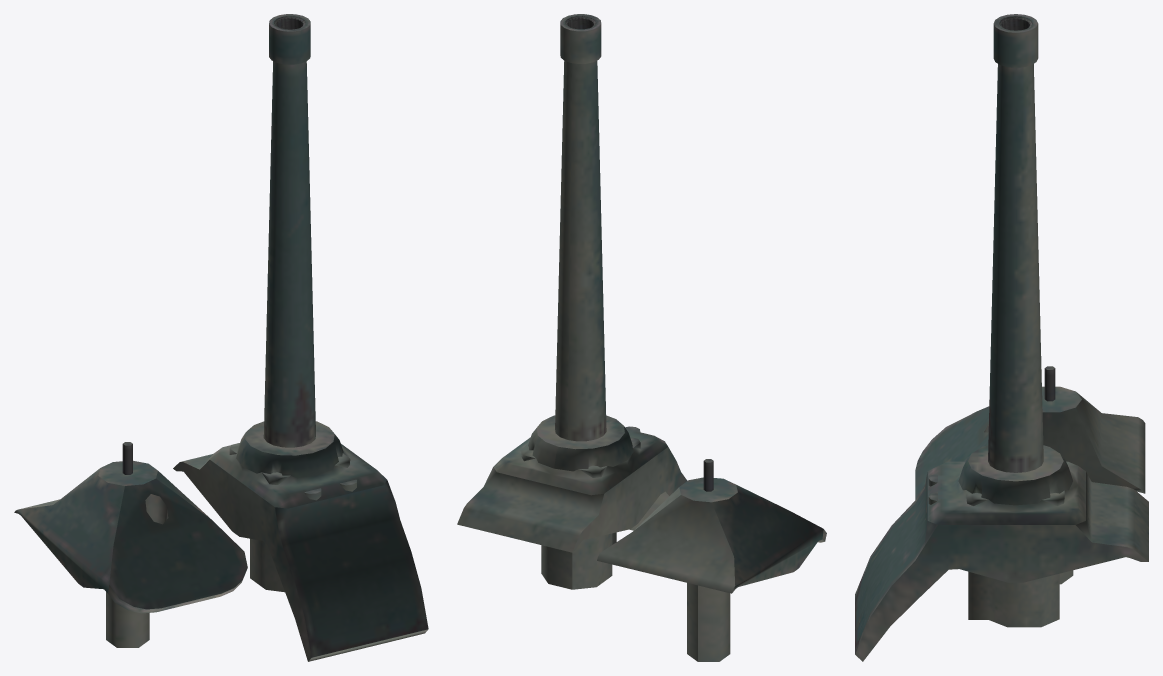
The model's file is Gun_04.glb.
The picture shows the model from 3 angles, left to right: view 1: azimuth 30°, elevation 25°; view 2: azimuth 150°, elevation 25°; view 3: azimuth 270°, elevation 25°; orthographic projection. The views are drawn at different scales.
Visible parts, largest first — view 1: set_0_group_0; view 2: set_0_group_0; view 3: set_0_group_0.
Part boxes in pixels (bbox=[...]): set_0_group_0: bbox=[14, 14, 428, 661]; set_0_group_0: bbox=[457, 14, 826, 661]; set_0_group_0: bbox=[855, 14, 1148, 661].
Size of the model in its own units: 0.5584 by 1.14 by 0.4845.
Materials: 1 (1 with a texture image).
